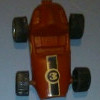rojo_sur: (14, 1, 87, 97)
